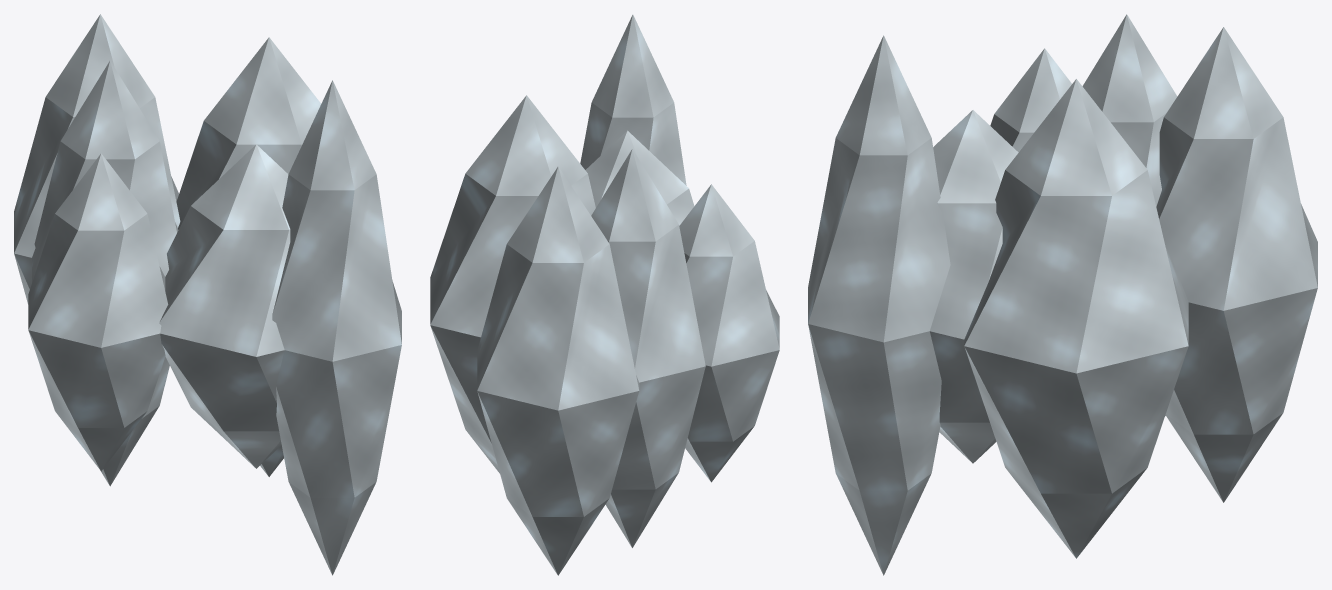
File: underworld-resource-deep-salt.glb
3 renders of one model, left to right at view 1: azimuth 30°, elevation 25°; view 2: azimuth 150°, elevation 25°; view 3: azimuth 270°, elevation 25°, orthographic. The views are drawn at different scales.
Visible parts, largest first — view 1: crystals; view 2: crystals; view 3: crystals.
Boxes of the visible parts, <box> form: crystals: <box>14,14,401,575</box>; crystals: <box>430,14,779,575</box>; crystals: <box>808,14,1317,575</box>.
Size of the model in its own units: 0.1812 by 0.2397 by 0.2048.
1 material, 1 textured.
